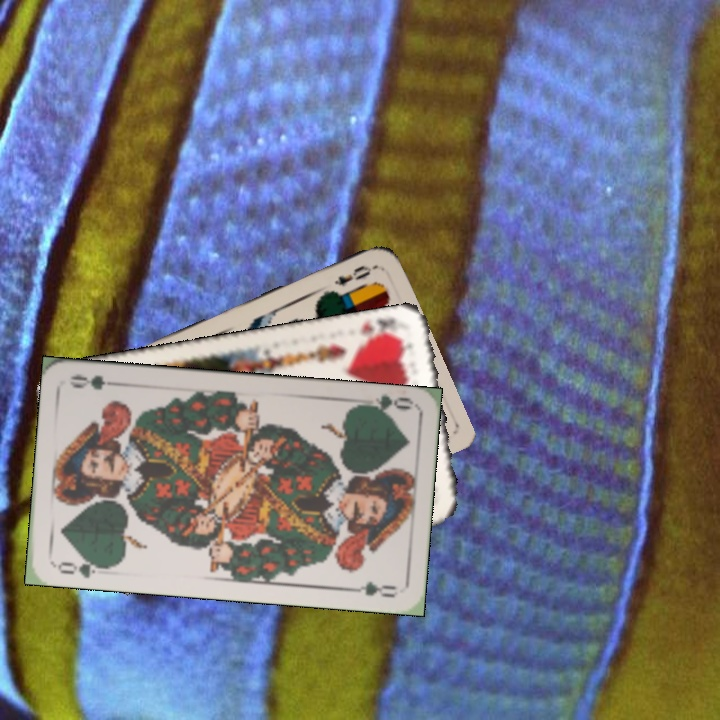EO: (330, 261, 378, 289)
GO: (51, 553, 110, 581), (355, 391, 415, 418)
HK: (354, 312, 402, 346)
